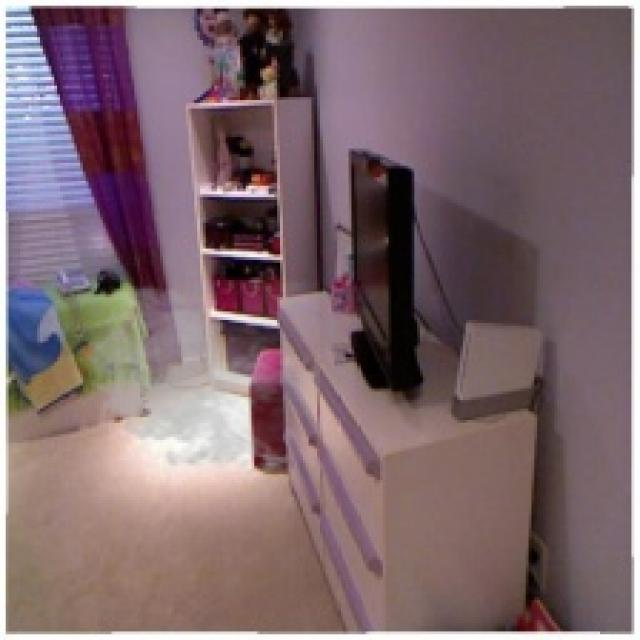smoke: (69, 280, 320, 480)
